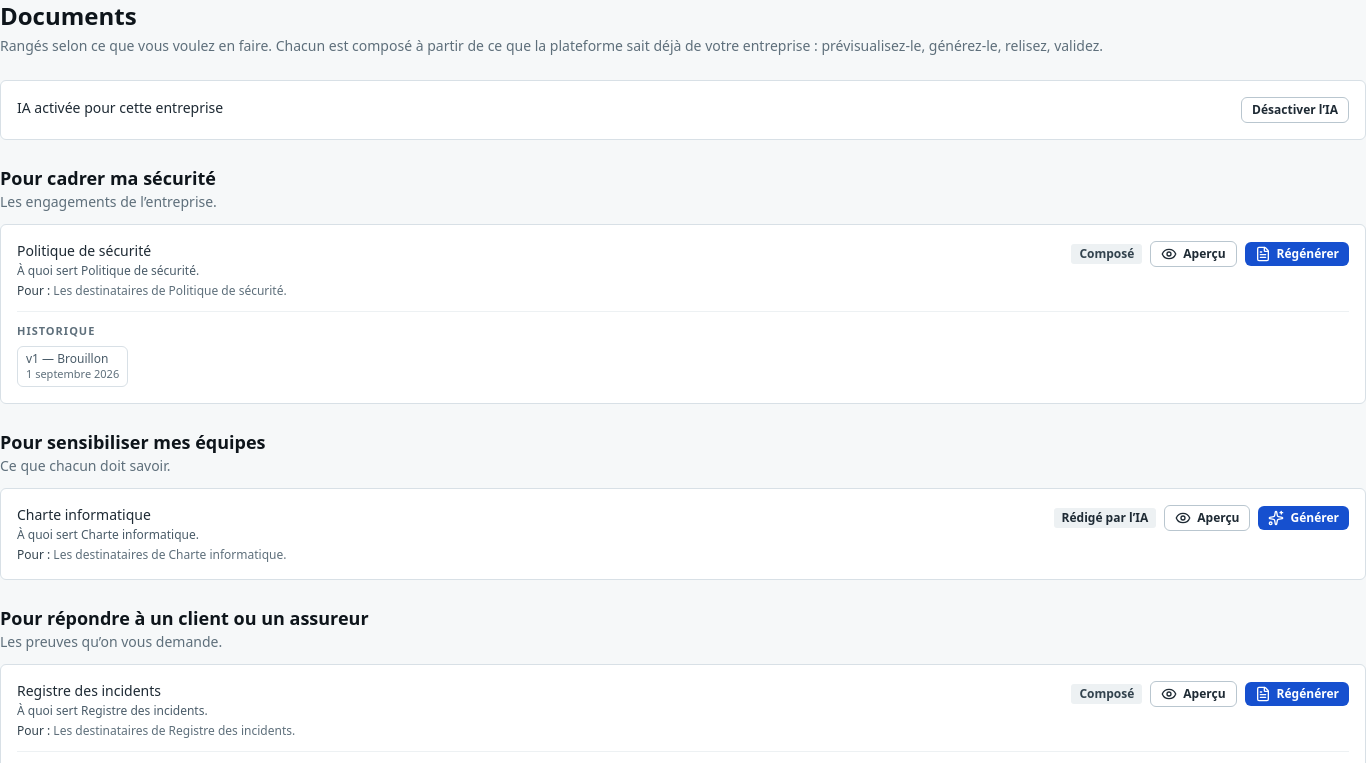
Test: DocumentsPage — les documents › montre l’aperçu d’un document composé sans le générer
This screenshot has width=1366, height=763.
Click the button with aria-label "Aperçu — Registre des incidents" at coordinates (1193, 694), box [1150,681,1236,707]
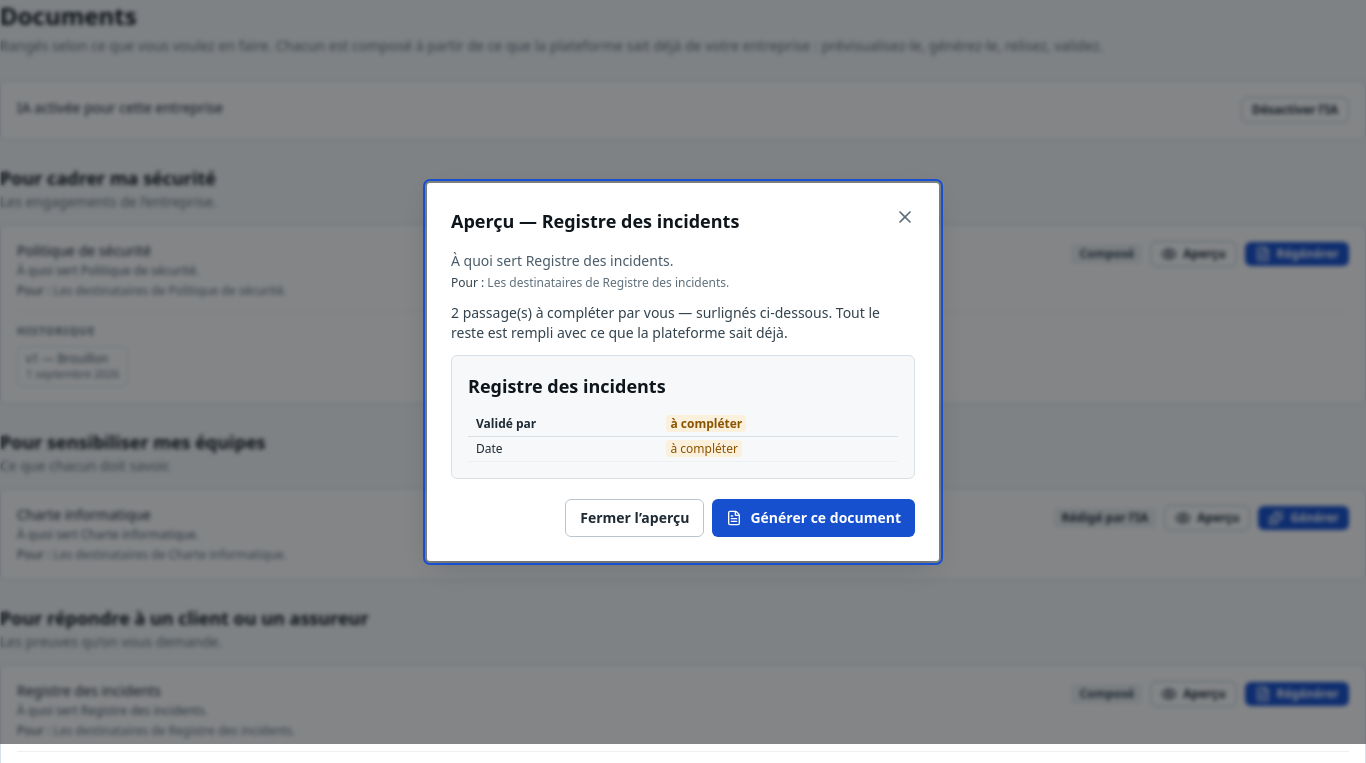
expect the heading "Registre des incidents" is shown: met, box [468,374,666,398]
expect the text "2 passage(s) à compléter par vous" is shown: met, box [451,303,880,342]
